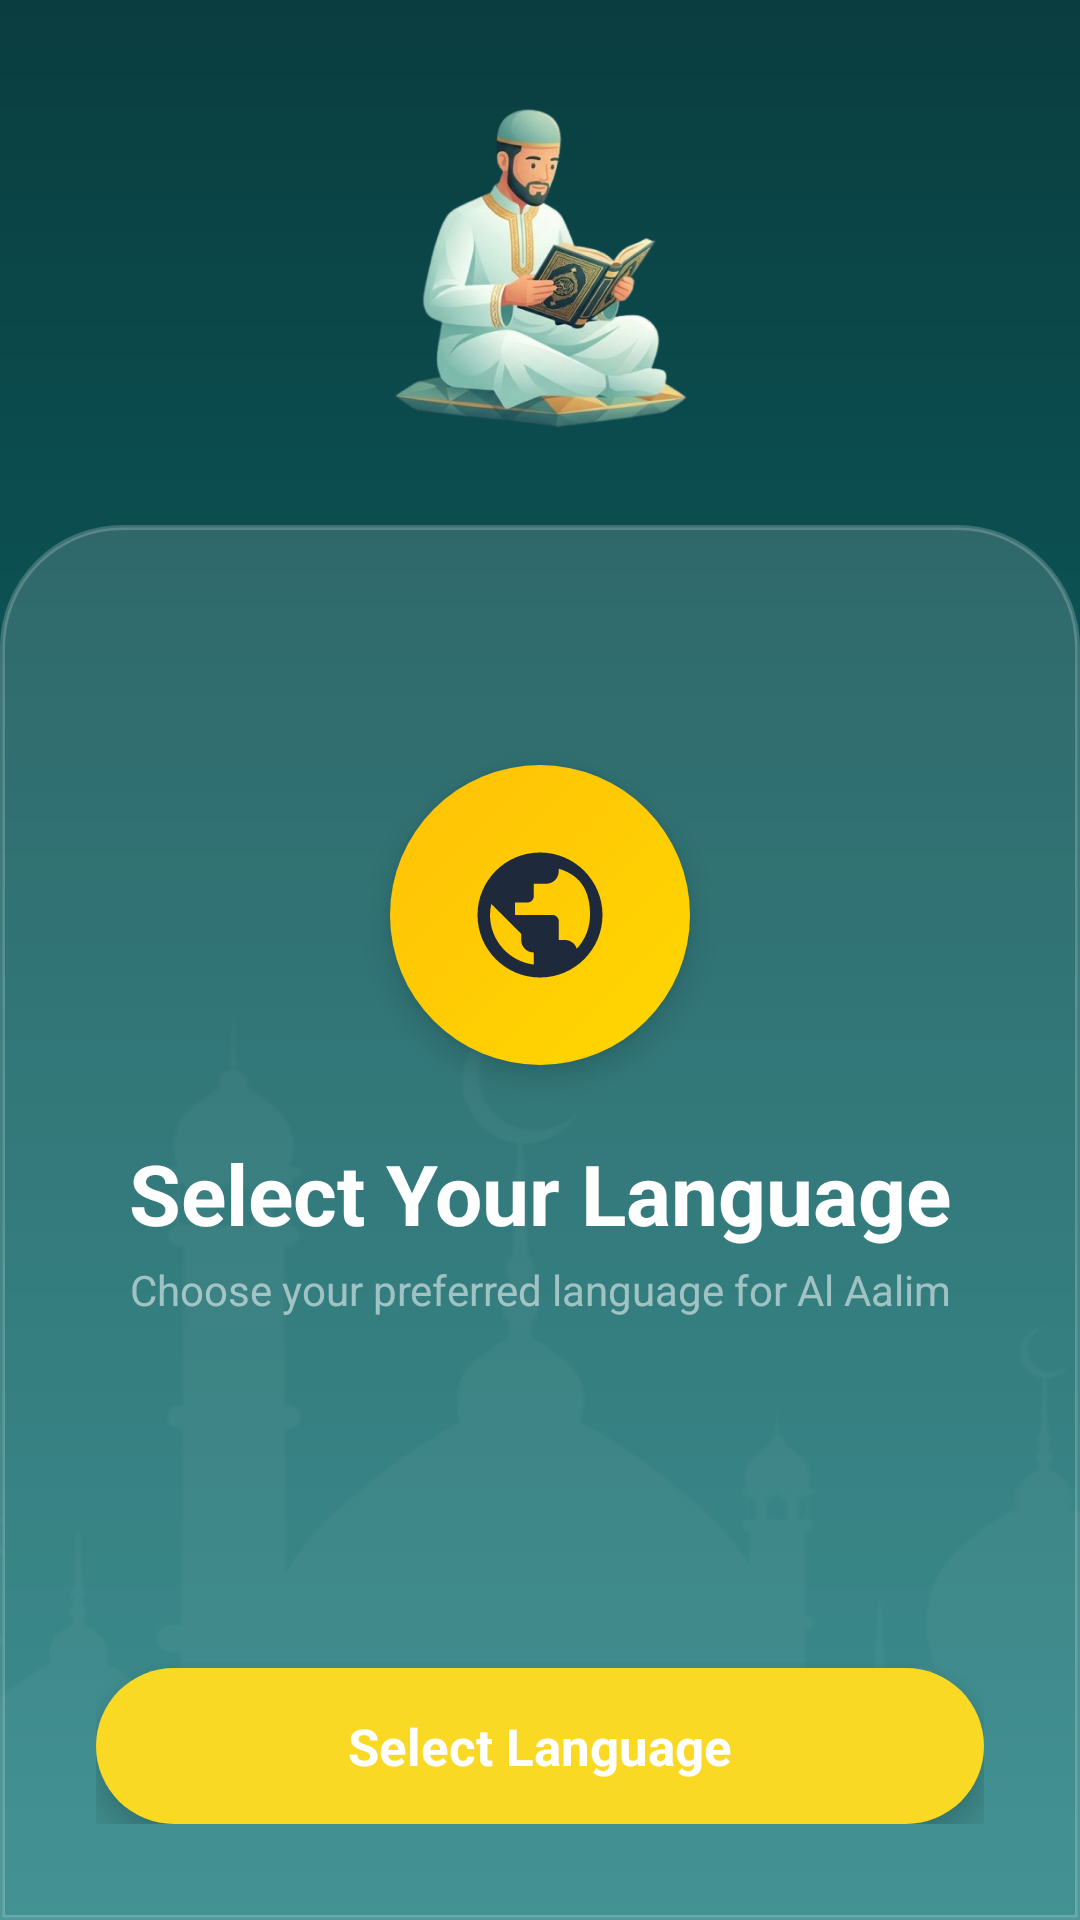

Icon bounding boxes for this 1080×1920 phone screenshot, format rect(x1, y1, x2, y2):
Muslim reading Quran illustration: rect(396, 109, 686, 427)
